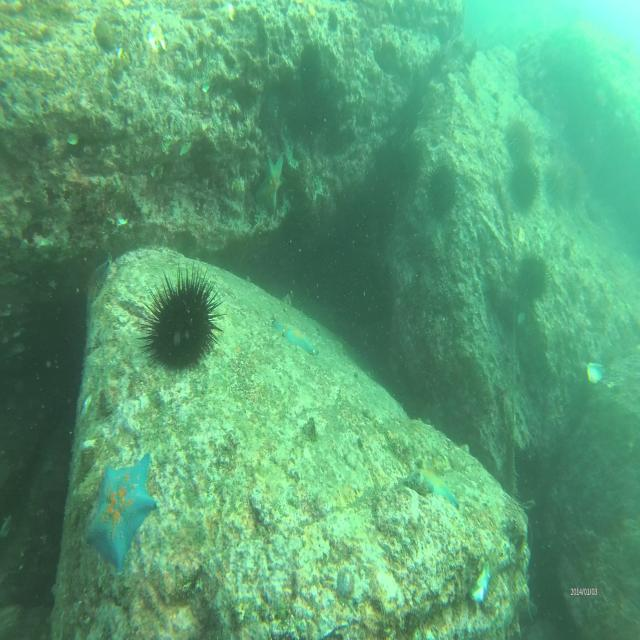echinus: (134, 264, 222, 375), (504, 159, 542, 209), (520, 244, 552, 302), (432, 155, 462, 216), (507, 113, 537, 162), (544, 157, 572, 199), (300, 36, 323, 78), (564, 154, 582, 198)
starfish: (83, 454, 157, 566), (406, 456, 460, 514), (272, 314, 316, 362), (258, 154, 288, 219)
